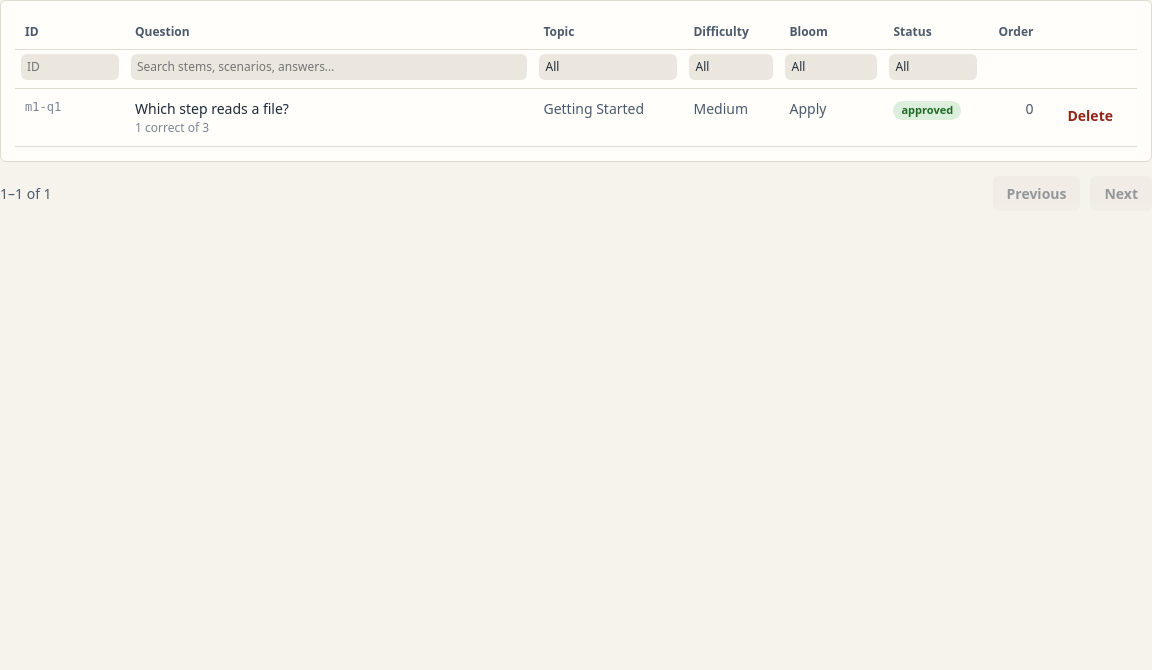
Scenario: saving a question › reminds the author when the question they saved is still approved
Click the text "Which step reads a file?": (329, 118) [125, 88, 534, 146]
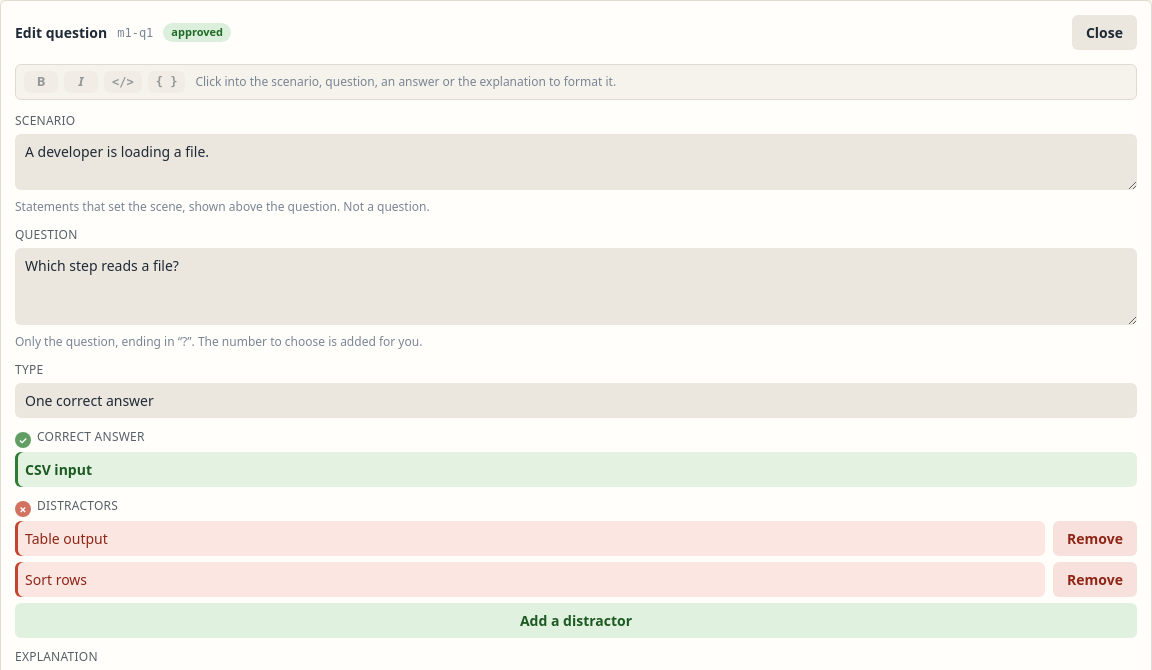
In the text box showing "Which step reads a file?": (576, 286) [15, 248, 1137, 325], type " now"
(page scrolled)
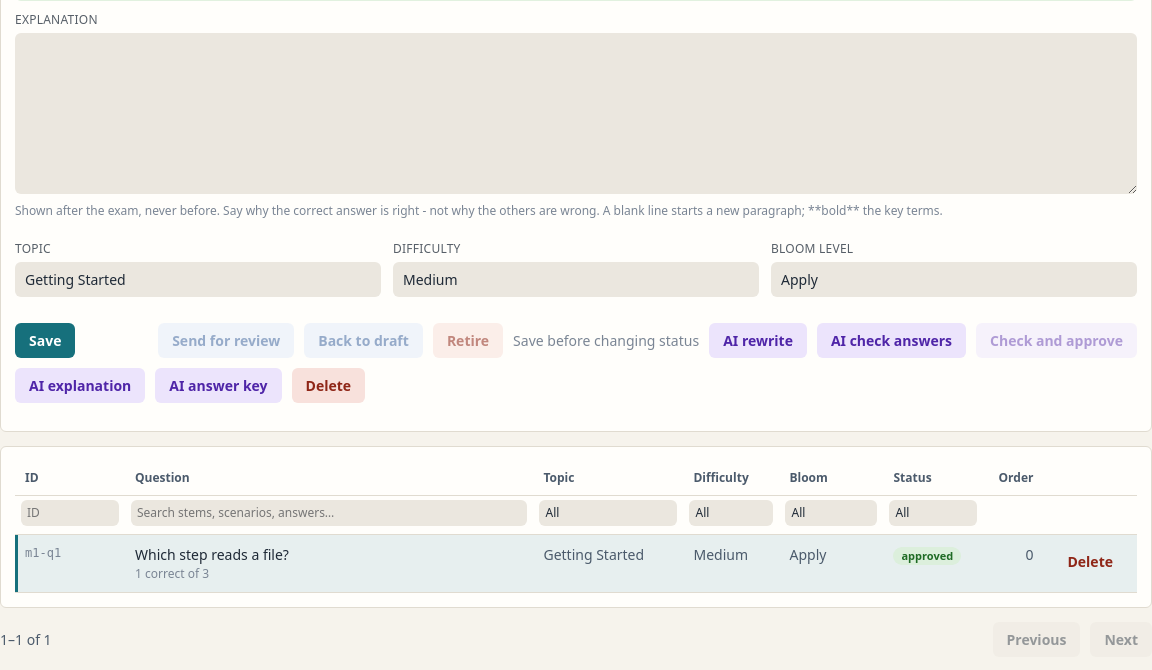
Click the button "Save": (45, 340) [15, 323, 75, 358]
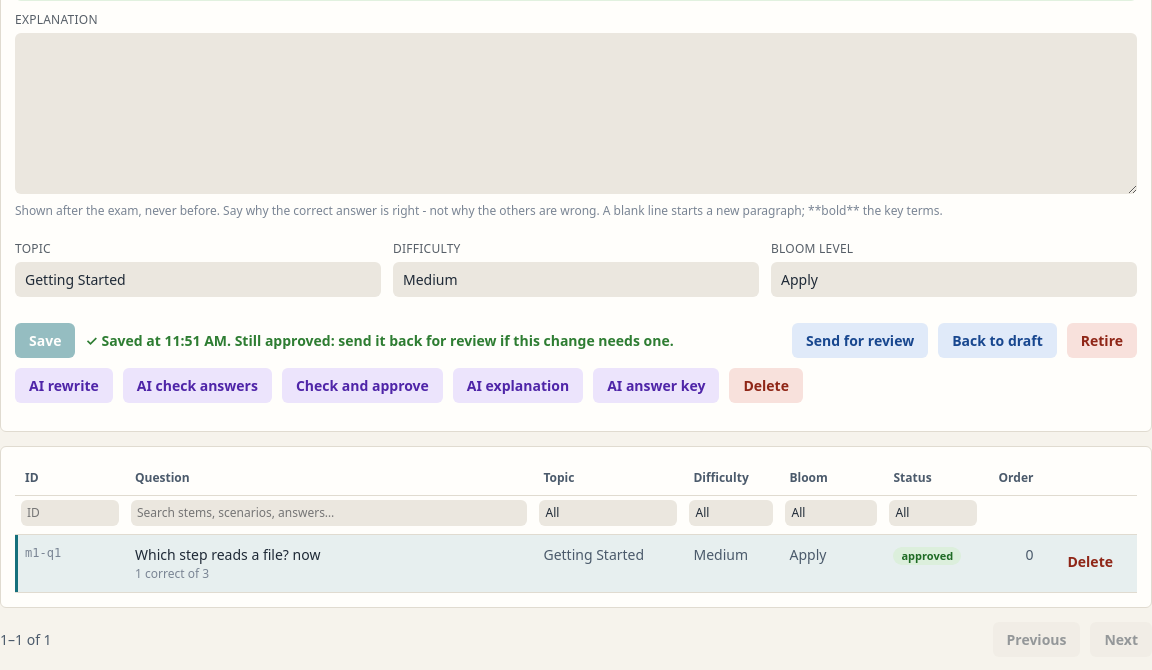
Now the message shows "Still approved: send it back for review", box [101, 331, 674, 350]
